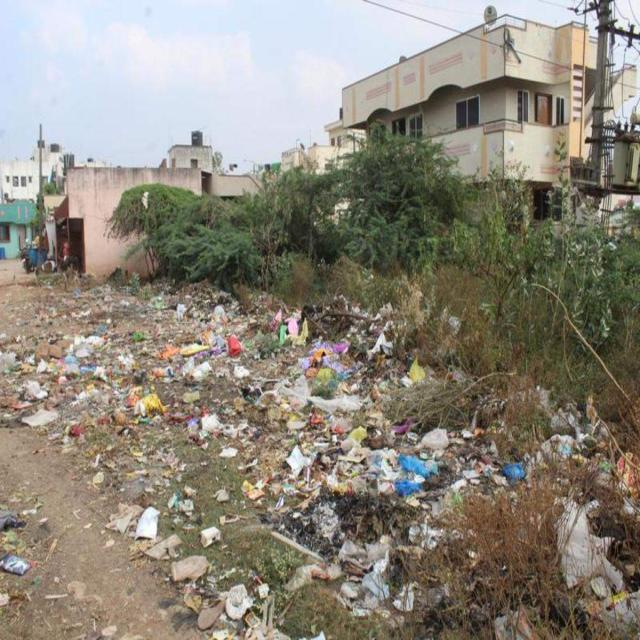garbage: (0, 276, 640, 640)
